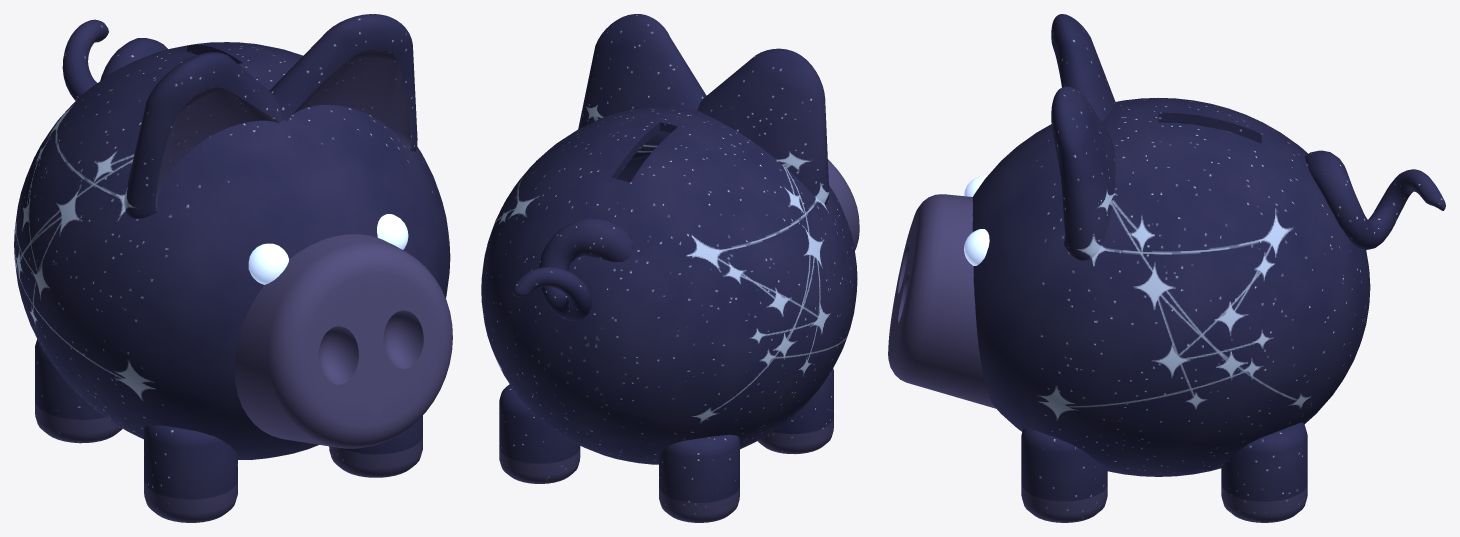
File: starlight-og-v1-complete.fbx
3 views of the same model, side by side, from view 1: azimuth 30°, elevation 25°; view 2: azimuth 150°, elevation 25°; view 3: azimuth 270°, elevation 25° (orthographic). The views are drawn at different scales.
Parts seen in each view (by area): view 1: Body, Snout, Ears, Legs, Tail, EyePreview; view 2: Body, Ears, Legs, Tail, Snout; view 3: Body, Snout, Legs, Ears, Tail, EyePreview.
Boxes of the visible parts, box(x1,y1,x2,y2) form: Body: box(14, 42, 450, 459); Snout: box(234, 234, 452, 448); Ears: box(124, 14, 417, 218); Legs: box(35, 339, 422, 522); Tail: box(62, 19, 167, 100); EyePreview: box(248, 214, 408, 284); Body: box(481, 107, 857, 464); Ears: box(578, 14, 829, 203); Legs: box(499, 368, 833, 522); Tail: box(513, 217, 634, 321); Snout: box(828, 159, 859, 250); Body: box(972, 97, 1370, 476); Snout: box(888, 194, 996, 408); Legs: box(1021, 422, 1307, 522); Ears: box(1051, 14, 1115, 260); Tail: box(1305, 150, 1445, 249); EyePreview: box(964, 176, 989, 265).
Size of the model in its own units: 1200 by 1397 by 1708.
3 materials, 2 textured.
